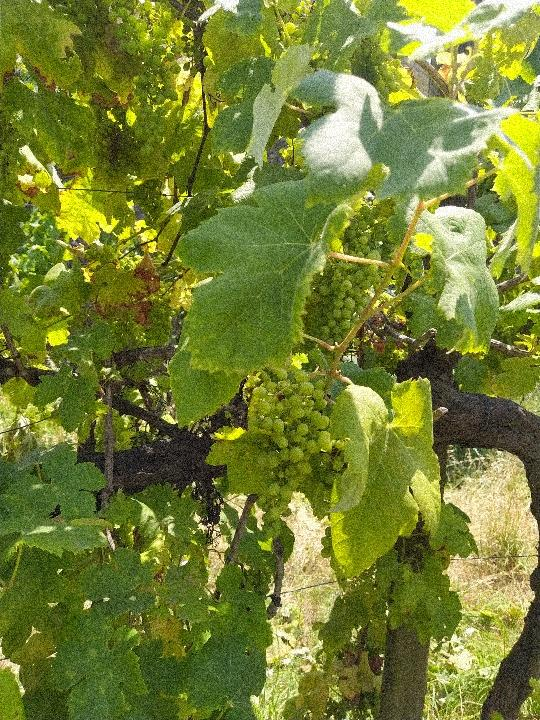grape: (247, 365, 334, 543), (307, 202, 398, 354)
